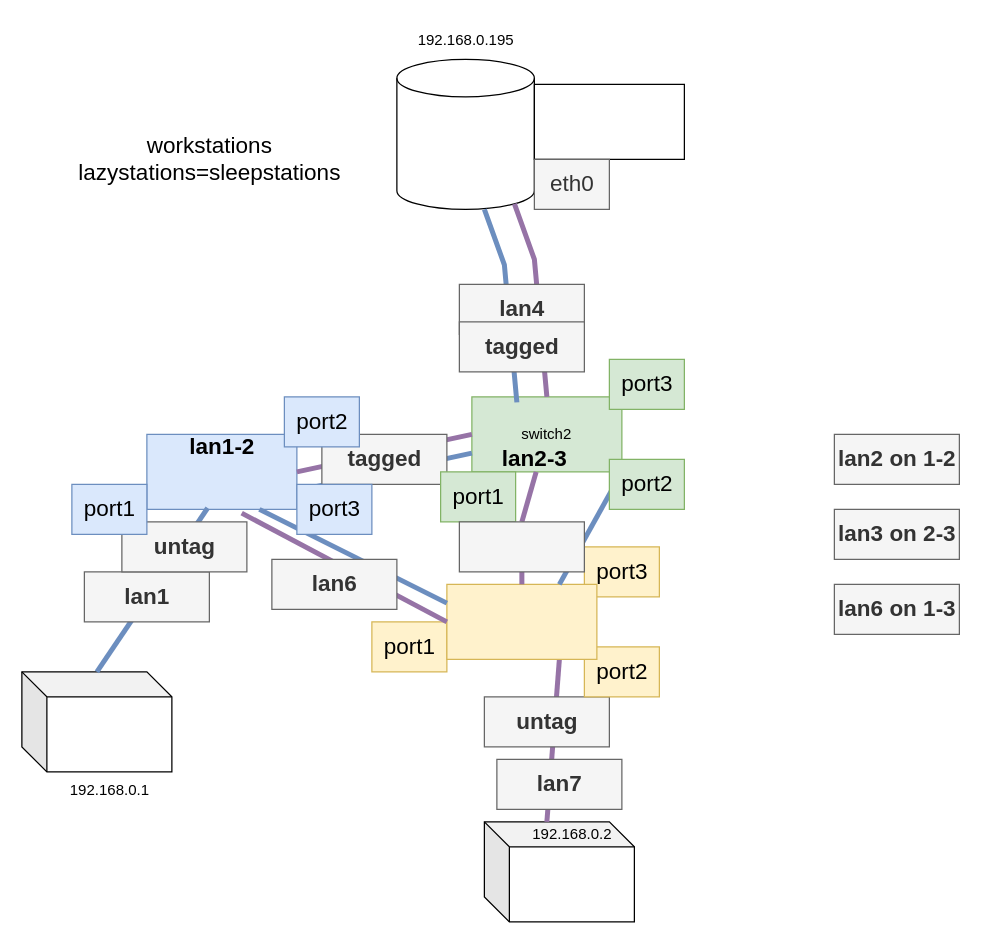
Some shapes in this 981 by 944 pixel diagram are drawn without their labels. The shapes that lost their labels are listed below. From the top down, each one's box as (x1, y1, x2, y2) in pixels, then its label:
(396, 58, 534, 209): router/vyos
(533, 83, 684, 159): 08:00:27:f6:24:03 eth0
(146, 433, 297, 509): switch1
(458, 521, 584, 572): lan3
(446, 583, 597, 659): switch3
(21, 671, 172, 772): lubuntu1
(483, 821, 634, 922): lubuntu2
